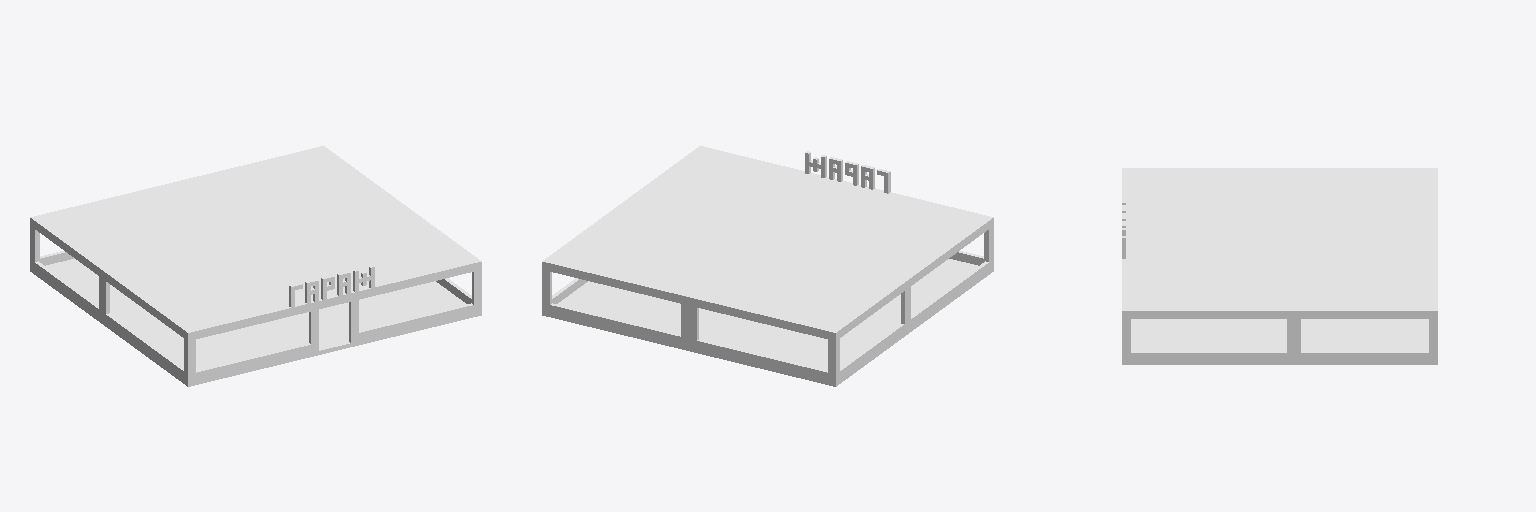
File: garage.obj
3 views of the same model, side by side, from view 1: azimuth 30°, elevation 25°; view 2: azimuth 150°, elevation 25°; view 3: azimuth 270°, elevation 25° (orthographic).
Visible parts, largest first — view 1: object 1; view 2: object 1; view 3: object 1.
Part boxes in pixels (x1,y1,x2,y2): object 1: (30,146,481,386); object 1: (542,146,993,386); object 1: (1122,168,1437,364).
Size of the model in its own units: 7.4 by 1.8 by 6.9.